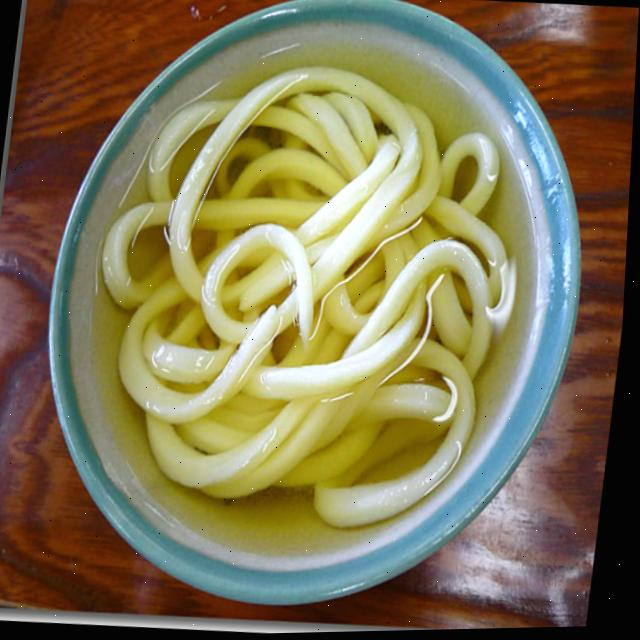面条主食: (52, 0, 590, 620)
